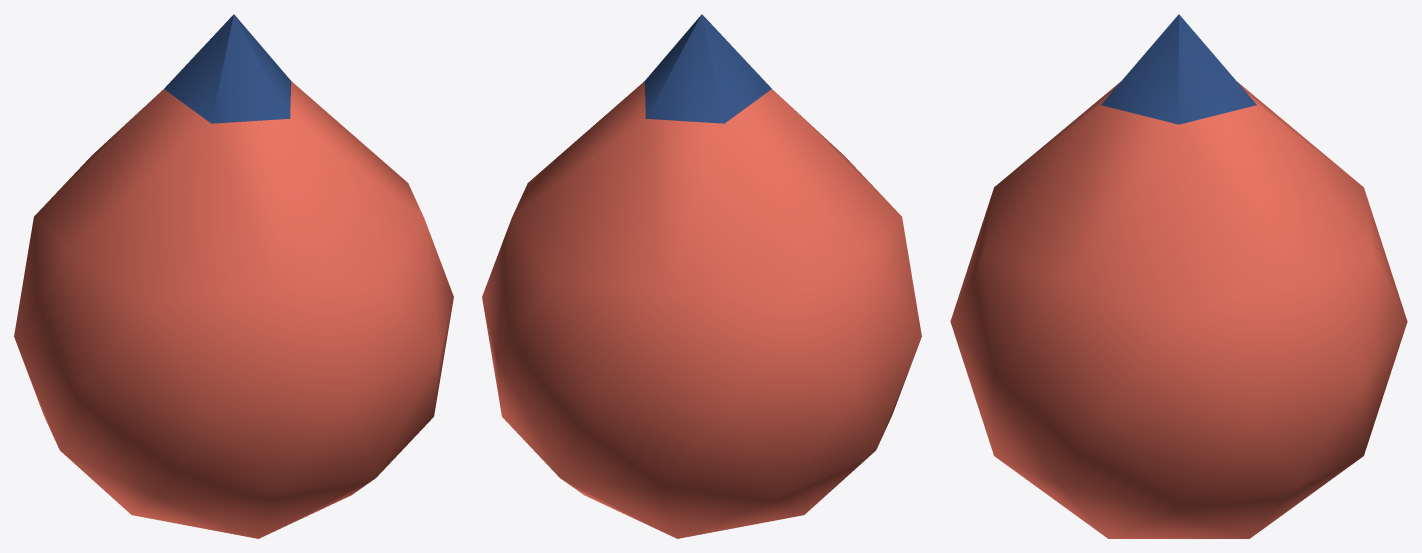
The model's file is M_032.Bouy.fbx.
3 views of the same model, side by side, from view 1: azimuth 30°, elevation 25°; view 2: azimuth 150°, elevation 25°; view 3: azimuth 270°, elevation 25° (orthographic).
Parts seen in each view (by area): view 1: Bouy; view 2: Bouy; view 3: Bouy.
Part boxes in pixels (bbox=[...]): Bouy: bbox=[14, 14, 453, 538]; Bouy: bbox=[482, 14, 921, 538]; Bouy: bbox=[950, 14, 1407, 538].
Bounding box in the file's own units: 190 × 249 × 200.
